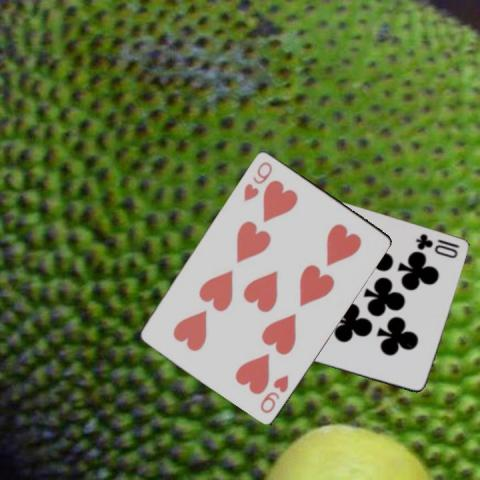10c: (413, 231, 460, 260)
9h: (241, 158, 274, 202), (257, 371, 290, 415)
